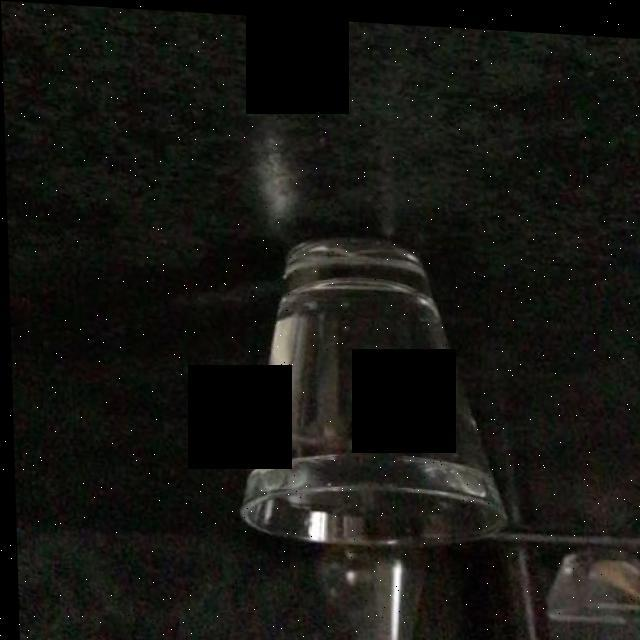water: (249, 272, 493, 525)
